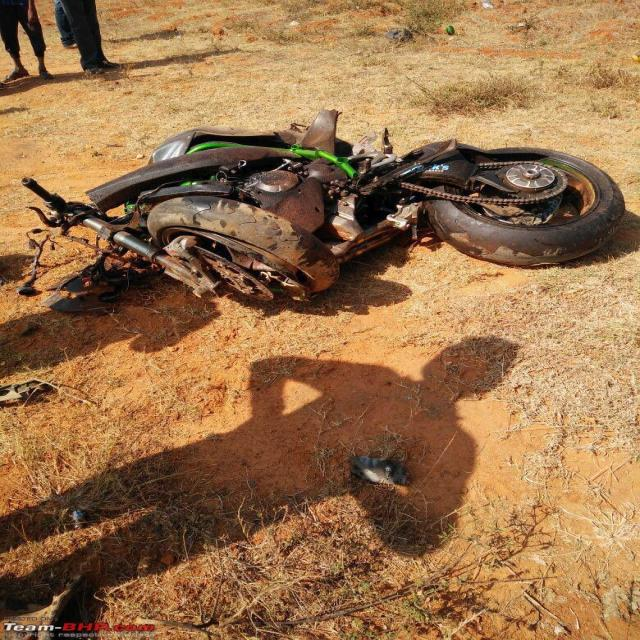accident: (23, 110, 623, 312)
